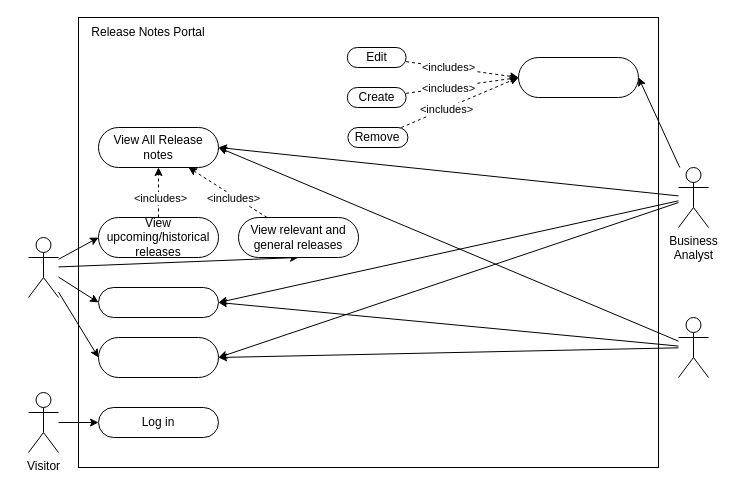
Some shapes in this 738 by 491 pixel diagram are drawn without their labels. Here are the shapes that lost their labels. From the top down, the centre of each, then its label:
At (x=578, y=77): "Manage Release Notes".
At (x=43, y=267): "Customer".
At (x=158, y=302): "Filter Release Notes".
At (x=158, y=357): "Export release notes to pdf".
At (x=693, y=347): "Developer".
